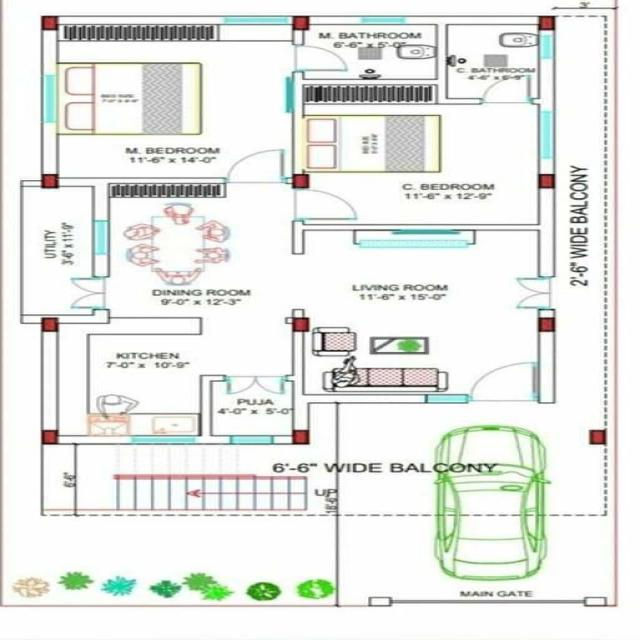column: (37, 14, 64, 33), (288, 13, 312, 34), (534, 13, 560, 32), (534, 316, 559, 335), (586, 427, 609, 447), (289, 172, 312, 192), (38, 173, 65, 190), (38, 428, 62, 447), (290, 428, 313, 447), (534, 172, 558, 190), (38, 316, 62, 334), (288, 316, 312, 333)
